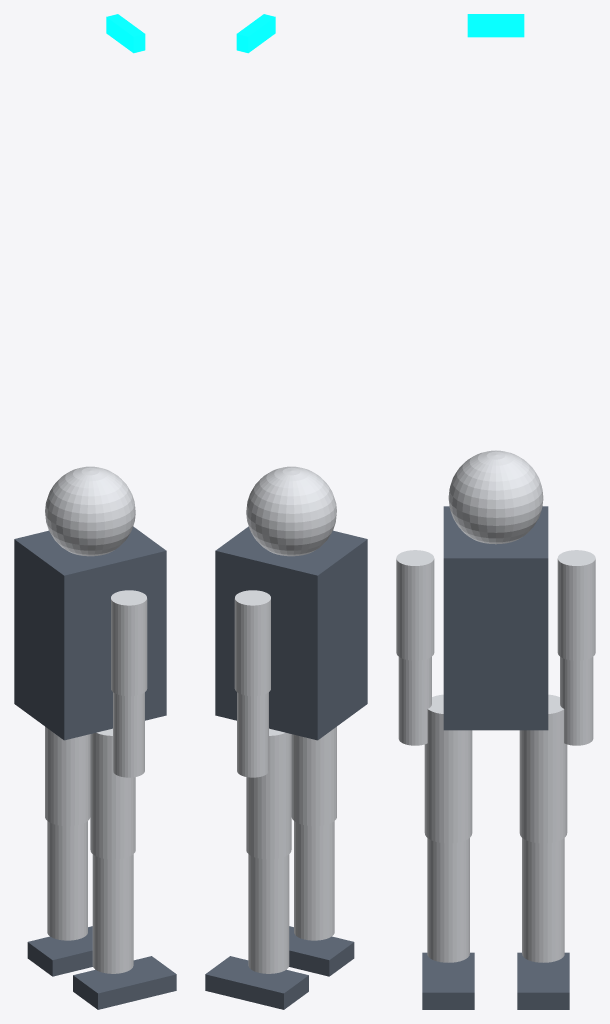
Rendered from humanoid.glb.
3 views of the same model, side by side, from view 1: azimuth 30°, elevation 25°; view 2: azimuth 150°, elevation 25°; view 3: azimuth 270°, elevation 25° (orthographic). The views are drawn at different scales.
Visible parts, largest first — view 1: torso, head, right_shin, right_thigh, left_shin, left_thigh, right_upper_arm, right_foot, right_forearm, left_foot, visor; view 2: torso, head, left_shin, left_thigh, right_shin, right_thigh, left_upper_arm, left_foot, left_forearm, right_foot, visor; view 3: torso, head, left_thigh, right_thigh, left_shin, right_shin, left_upper_arm, right_upper_arm, left_forearm, right_forearm, left_foot, right_foot (+1 smaller).
Boxes of the visible parts, x1=… form: torso: x1=14, y1=526, x2=166, y2=740; head: x1=45, y1=466, x2=135, y2=556; right_shin: x1=92, y1=854, x2=133, y2=973; right_thigh: x1=90, y1=728, x2=135, y2=859; left_shin: x1=47, y1=821, x2=87, y2=940; left_thigh: x1=45, y1=726, x2=90, y2=826; right_upper_arm: x1=111, y1=590, x2=147, y2=696; right_foot: x1=73, y1=956, x2=176, y2=1009; right_forearm: x1=113, y1=692, x2=144, y2=777; left_foot: x1=27, y1=926, x2=92, y2=976; visor: x1=106, y1=14, x2=145, y2=53; torso: x1=215, y1=526, x2=367, y2=740; head: x1=246, y1=466, x2=336, y2=556; left_shin: x1=248, y1=854, x2=289, y2=973; left_thigh: x1=246, y1=728, x2=291, y2=859; right_shin: x1=294, y1=821, x2=334, y2=940; right_thigh: x1=291, y1=726, x2=336, y2=826; left_upper_arm: x1=234, y1=590, x2=270, y2=696; left_foot: x1=205, y1=956, x2=308, y2=1009; left_forearm: x1=237, y1=692, x2=268, y2=777; right_foot: x1=289, y1=926, x2=354, y2=976; visor: x1=236, y1=14, x2=275, y2=53; torso: x1=443, y1=506, x2=548, y2=730; head: x1=448, y1=450, x2=543, y2=544; left_thigh: x1=519, y1=694, x2=567, y2=843; right_thigh: x1=424, y1=694, x2=472, y2=843; left_shin: x1=522, y1=838, x2=564, y2=962; right_shin: x1=427, y1=838, x2=469, y2=962; left_upper_arm: x1=557, y1=550, x2=595, y2=660; right_upper_arm: x1=396, y1=550, x2=434, y2=660; left_forearm: x1=560, y1=657, x2=593, y2=745; right_forearm: x1=398, y1=657, x2=431, y2=745; left_foot: x1=517, y1=952, x2=569, y2=1009; right_foot: x1=422, y1=952, x2=474, y2=1009.
Bounding box in the file's own units: 0.26 × 2.29 × 0.42.
